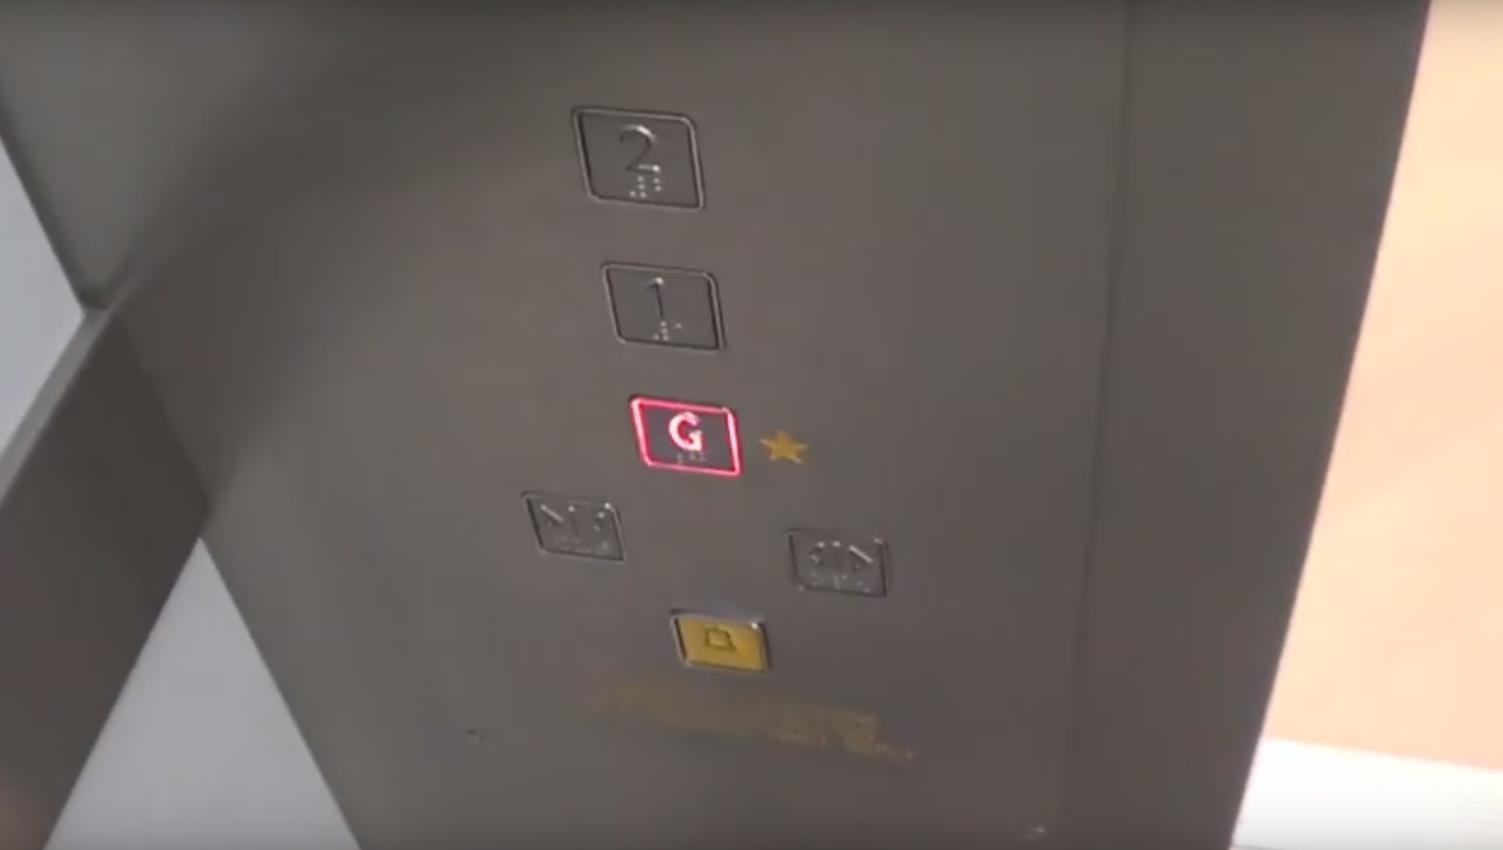1: (594, 252, 728, 367)
2: (566, 97, 713, 225)
G: (628, 393, 750, 491)
alarm: (669, 601, 772, 684)
close: (521, 486, 635, 567)
open: (782, 518, 891, 613)
